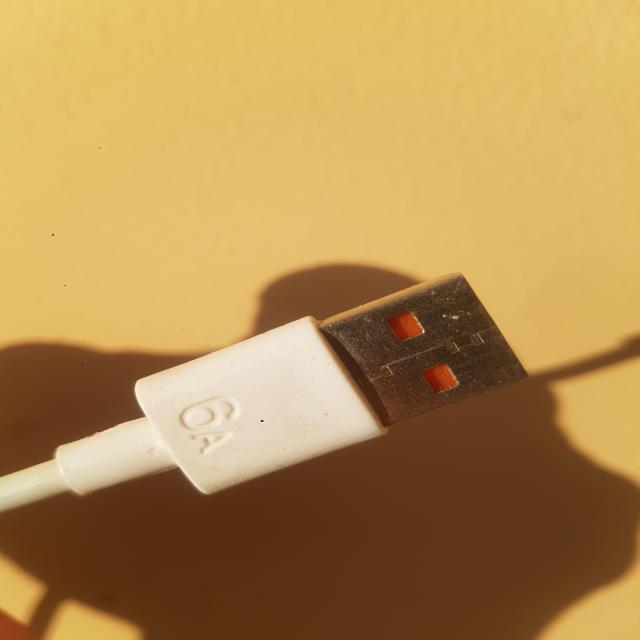electronic: (31, 196, 574, 640)
